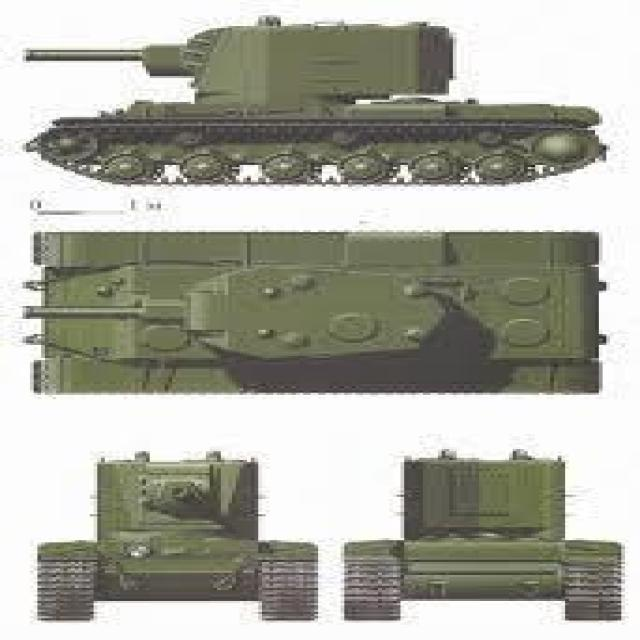Tanks: (21, 207, 616, 407), (13, 26, 612, 189), (24, 444, 324, 622), (338, 444, 630, 622)
